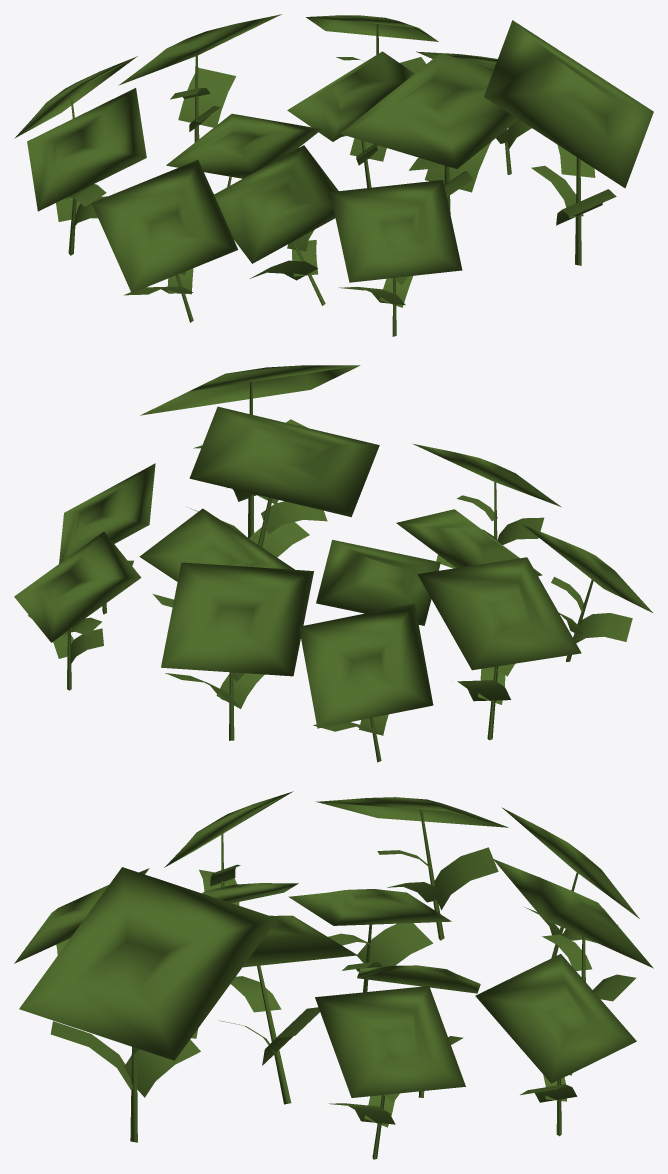
Rendered from Flower_2_Multi.glb.
The picture shows the model from 3 angles, top to bottom: view 1: azimuth 30°, elevation 25°; view 2: azimuth 150°, elevation 25°; view 3: azimuth 270°, elevation 25°; orthographic projection. The views are drawn at different scales.
Visible parts, largest first — view 1: Flower_2_Multi; view 2: Flower_2_Multi; view 3: Flower_2_Multi.
Part boxes in pixels (x1,y1,x2,y2): Flower_2_Multi: [14, 14, 653, 336]; Flower_2_Multi: [14, 365, 652, 762]; Flower_2_Multi: [14, 791, 653, 1159].
Bounding box in the file's own units: 0.5886 × 0.2138 × 0.5574.
